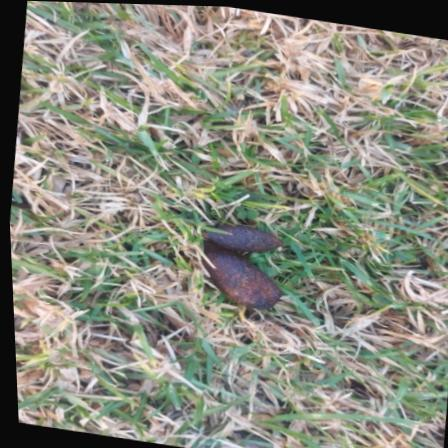dog-poop: (187, 213, 296, 318)
